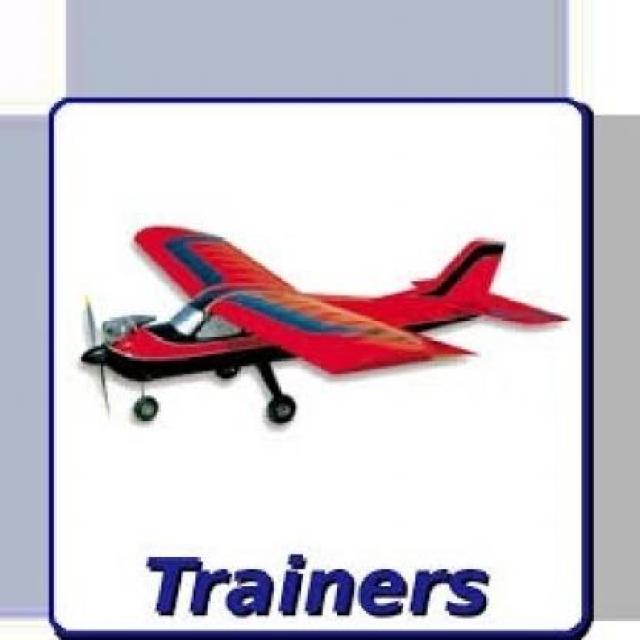iha: (40, 87, 588, 561)
